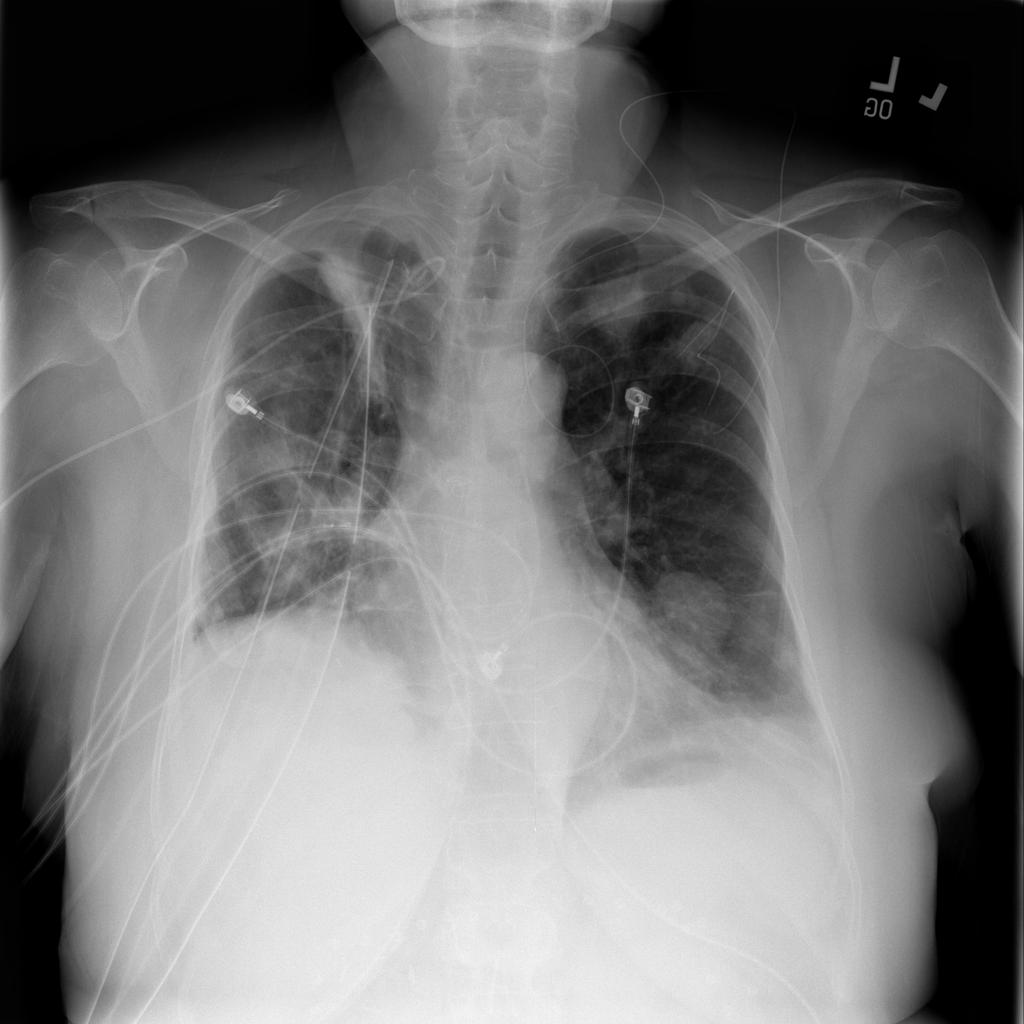nodule: (566, 249, 684, 357), (639, 554, 742, 663), (675, 450, 725, 503), (759, 634, 812, 683), (661, 272, 711, 323), (196, 593, 234, 631)
